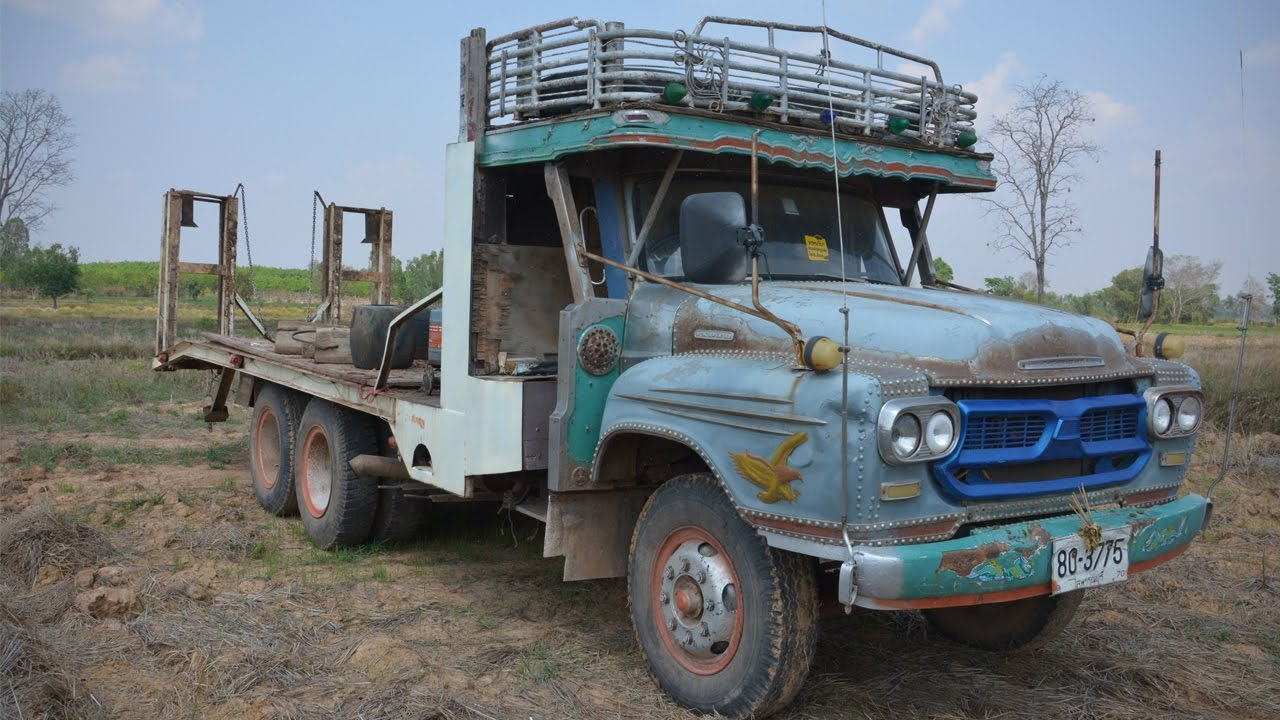truck: (147, 21, 1220, 713)
